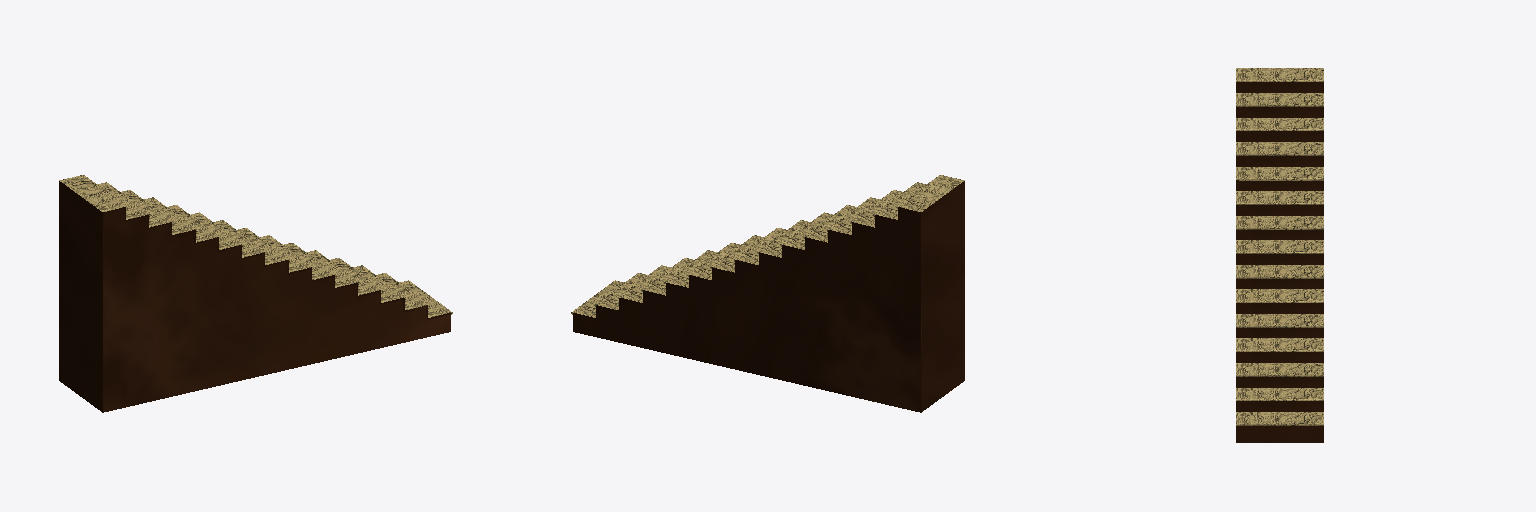
3 renders of one model, left to right at view 1: azimuth 30°, elevation 25°; view 2: azimuth 150°, elevation 25°; view 3: azimuth 270°, elevation 25°, orthographic.
Parts seen in each view (by area): view 1: stairs_Cube.001; view 2: stairs_Cube.001; view 3: stairs_Cube.001.
Boxes of the visible parts, <box> form: stairs_Cube.001: <box>59,175,452,412</box>; stairs_Cube.001: <box>571,175,964,412</box>; stairs_Cube.001: <box>1236,68,1323,442</box>.
Size of the model in its own units: 4.62 by 2.58 by 1.
Materials: 1 (1 with a texture image).